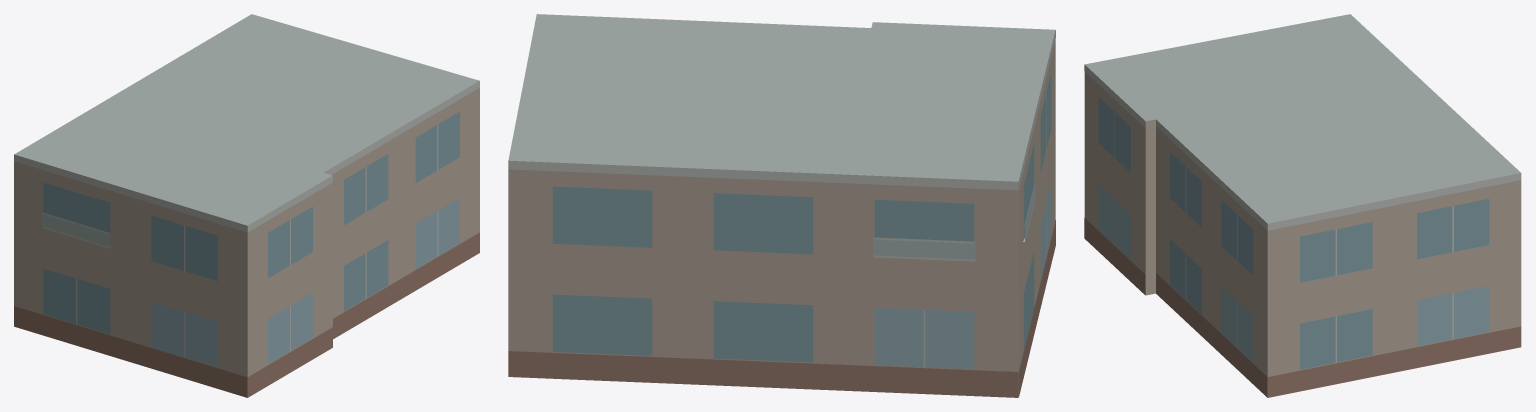
Rendered from survey-upis-32905515.glb.
3 renders of one model, left to right at view 1: azimuth 30°, elevation 25°; view 2: azimuth 150°, elevation 25°; view 3: azimuth 270°, elevation 25°, orthographic. The views are drawn at different scales.
Visible parts, largest first — view 1: survey-upis-32905515.tmp; view 2: survey-upis-32905515.tmp; view 3: survey-upis-32905515.tmp.
Boxes of the visible parts, left/top/right/bottom form: survey-upis-32905515.tmp: left=14, top=14, right=479, bottom=397; survey-upis-32905515.tmp: left=508, top=14, right=1055, bottom=397; survey-upis-32905515.tmp: left=1084, top=14, right=1521, bottom=397.
Size of the model in its own units: 15.76 by 6.1 by 13.88.
